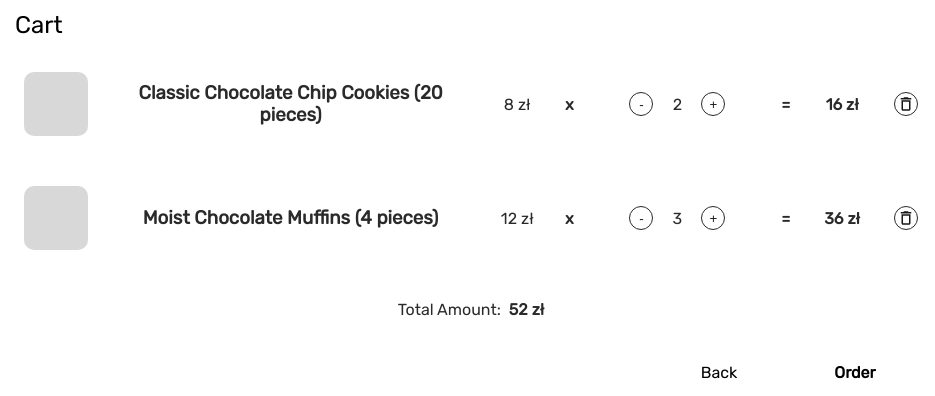
it: cart list › delete button removes item
This screenshot has width=935, height=396.
Expected: the heading "Classic Chocolate Chip Cookies (20 pieces)" is shown, [112, 82, 469, 126]
Expected: the heading "Moist Chocolate Muffins (4 pieces)" is shown, [143, 207, 438, 229]
Click the button with test id "delete-btn" in the row of "16" at x=906, y=104, box [894, 92, 918, 116]
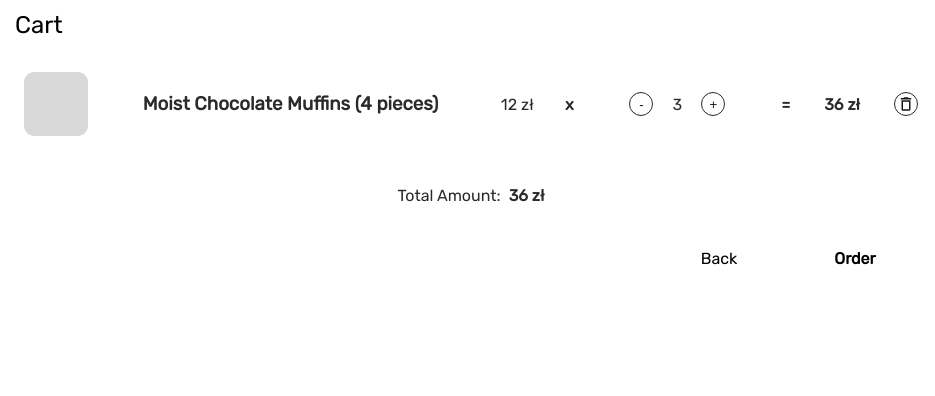
Now the heading "Classic Chocolate Chip Cookies (20 pieces)" is gone
Click the button with test id "delete-btn" at x=906, y=104, box [894, 92, 918, 116]
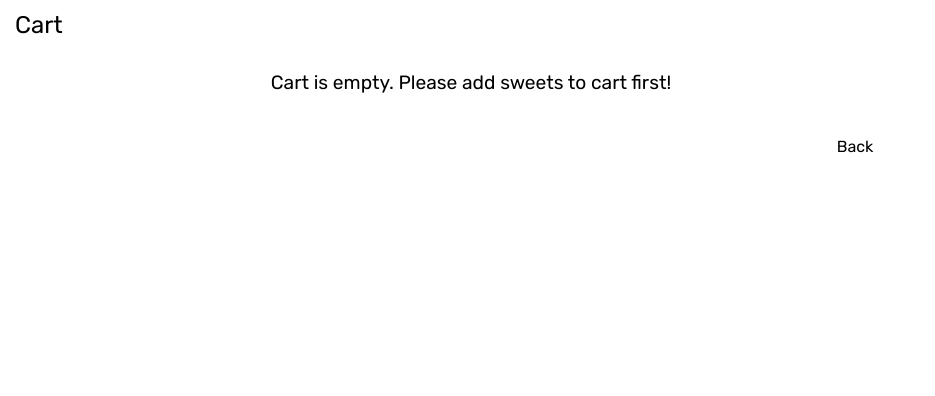
Now the heading "Moist Chocolate Muffins (4 pieces)" is gone
Now no pictures are shown
